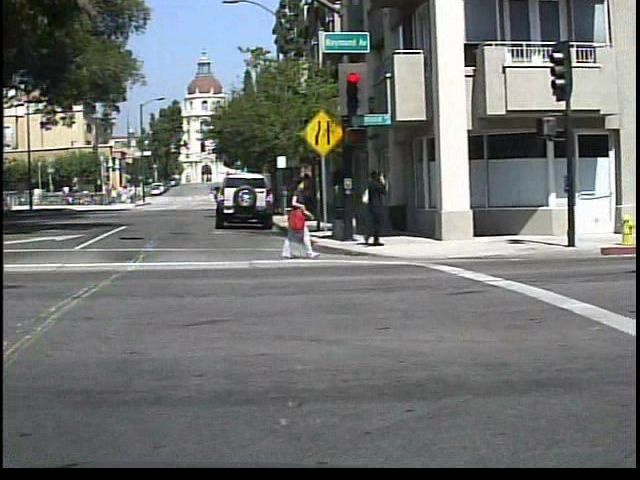person: (279, 174, 321, 262), (358, 163, 400, 249)
